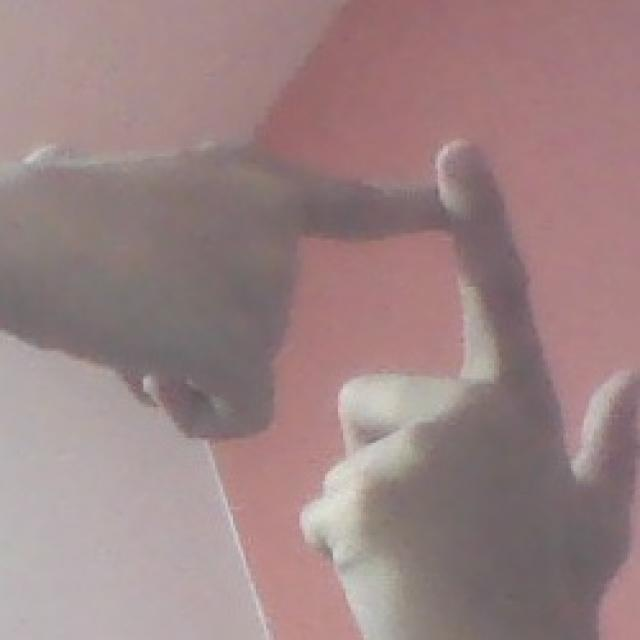Alphabet-J: (41, 118, 640, 617)
